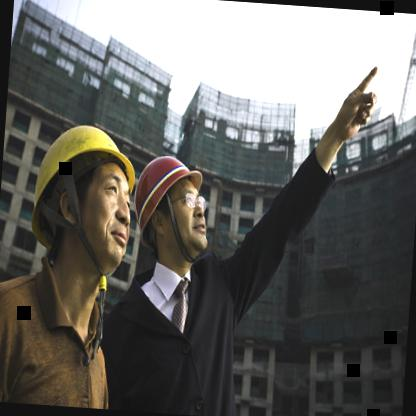helmet: (30, 102, 146, 288), (126, 138, 216, 272)
